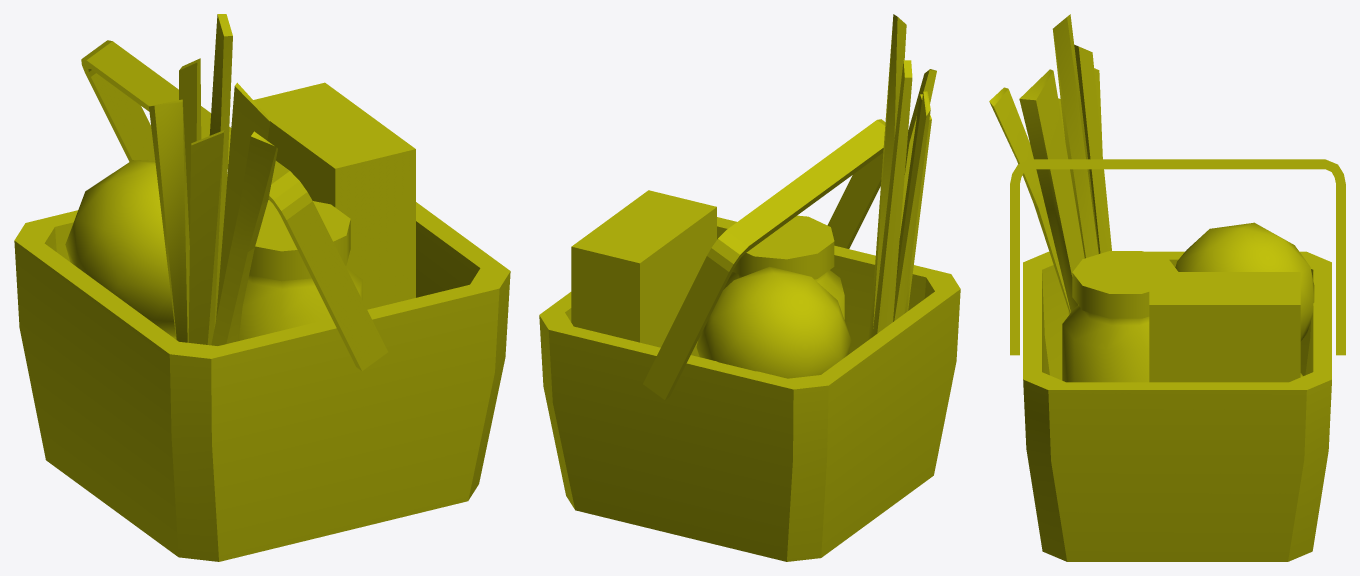
File: market_cas.glb
3 views of the same model, side by side, from view 1: azimuth 30°, elevation 25°; view 2: azimuth 150°, elevation 25°; view 3: azimuth 270°, elevation 25° (orthographic). The views are drawn at different scales.
Parts seen in each view (by area): view 1: market_cas; view 2: market_cas; view 3: market_cas.
Boxes of the visible parts, x1,y1,x2,y2 form: market_cas: [14, 14, 510, 561]; market_cas: [539, 14, 960, 561]; market_cas: [989, 14, 1345, 561].
Size of the model in its own units: 0.8587 by 1.28 by 0.9352.
1 material, 1 textured.
